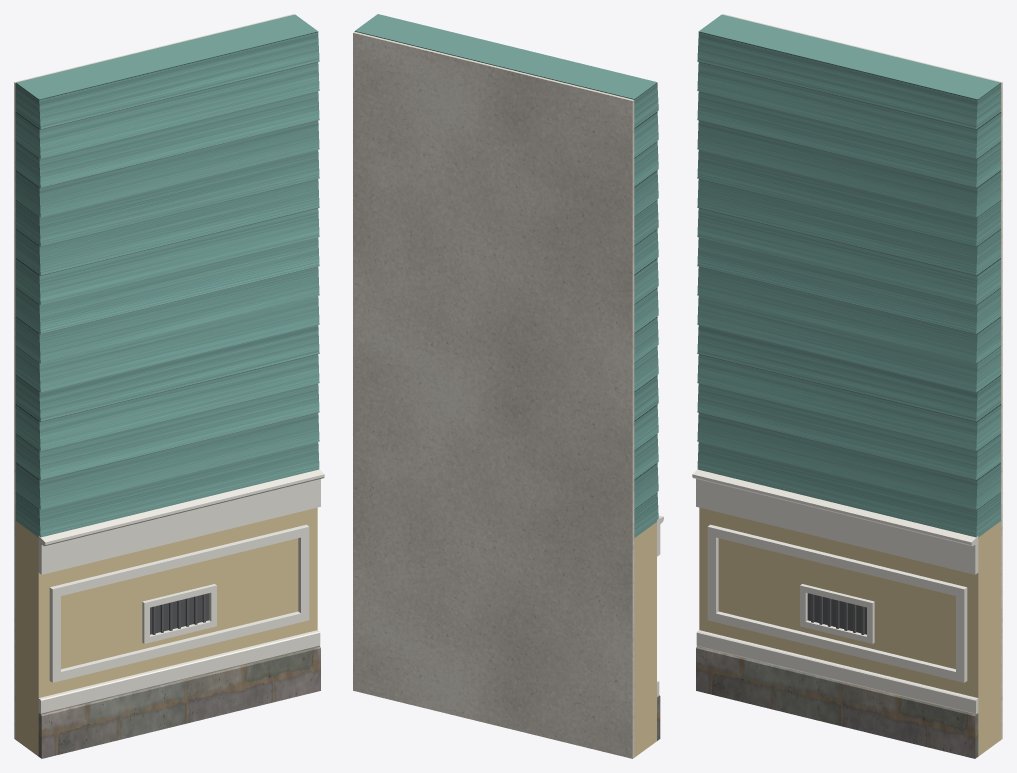
The model's file is f_g_plain_c.glb.
3 renders of one model, left to right at view 1: azimuth 30°, elevation 25°; view 2: azimuth 150°, elevation 25°; view 3: azimuth 330°, elevation 25°, orthographic.
Parts seen in each view (by area): view 1: f_g_plain_c_siding_c, f_g_plain_c_acc_c, f_g_plain_c_trim, f_g_plain_c_plinth, f_g_plain_c_plaster, f_g_plain_c_dark, f_g_plain_c_iron; view 2: f_g_plain_c_plaster, f_g_plain_c_siding_c, f_g_plain_c_acc_c; view 3: f_g_plain_c_siding_c, f_g_plain_c_acc_c, f_g_plain_c_trim, f_g_plain_c_plinth, f_g_plain_c_plaster, f_g_plain_c_dark, f_g_plain_c_iron.
Part boxes in pixels (bbox=[...]): f_g_plain_c_siding_c: bbox=[16, 14, 319, 537]; f_g_plain_c_acc_c: bbox=[16, 507, 317, 756]; f_g_plain_c_trim: bbox=[38, 469, 324, 713]; f_g_plain_c_plinth: bbox=[38, 646, 320, 758]; f_g_plain_c_plaster: bbox=[14, 14, 293, 739]; f_g_plain_c_dark: bbox=[150, 593, 209, 634]; f_g_plain_c_iron: bbox=[152, 594, 205, 634]; f_g_plain_c_plaster: bbox=[353, 31, 634, 758]; f_g_plain_c_siding_c: bbox=[354, 14, 658, 537]; f_g_plain_c_acc_c: bbox=[634, 522, 656, 757]; f_g_plain_c_siding_c: bbox=[697, 14, 1000, 537]; f_g_plain_c_acc_c: bbox=[699, 507, 1000, 756]; f_g_plain_c_trim: bbox=[692, 469, 978, 713]; f_g_plain_c_plinth: bbox=[696, 646, 978, 758]; f_g_plain_c_plaster: bbox=[723, 14, 1002, 739]; f_g_plain_c_dark: bbox=[807, 593, 866, 634]; f_g_plain_c_iron: bbox=[811, 594, 864, 634].
Bounding box in the file's own units: 2 × 4.5 × 0.385.
Materials: 7 (3 with a texture image).
